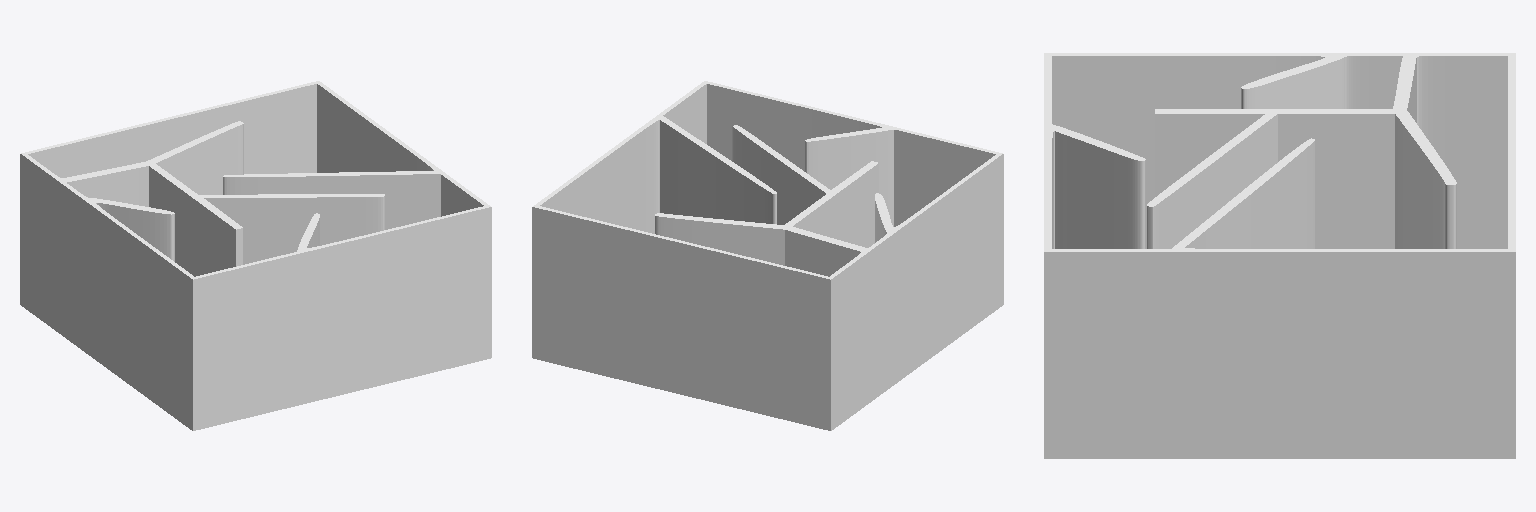
robot.urdf — urdf_robot:
<?xml version="1.0" ?>
<robot name="urdf_robot">
  <link name="baseLink">

    <inertial>
      <origin rpy="0 0 0" xyz="0 0 0"/>
       <mass value="10000.0"/>
       <inertia ixx="1" ixy="0" ixz="0" iyy="1" iyz="0" izz="1"/>
    </inertial>
    <visual>
      <origin rpy="0 0 0" xyz="0 0 0"/>
      <geometry>
				<mesh filename="maze_hard.obj" scale="100 100 100"/>      
      </geometry>
      <material name="white">
        <color rgba="1 1 1 1"/>
      </material>
    </visual>
    <collision>
      <origin rpy="0 0 0" xyz="0 0 0"/>
      <geometry>
	 <sphere radius="0."/>
      </geometry>
    </collision>
  </link>
</robot>

--- What the picture shows (computed from the rendered views, not written in the file) ---
The picture shows the robot from 3 angles, left to right: view 1: azimuth 30°, elevation 25°; view 2: azimuth 150°, elevation 25°; view 3: azimuth 270°, elevation 25°; orthographic projection.
Robot: urdf_robot — 1 links, 0 joints (none); root link baseLink; default pose: all joints at 0.
Links seen in each view (by area): view 1: baseLink; view 2: baseLink; view 3: baseLink.
Link boxes in pixels (x1,y1,x2,y2): baseLink: [20, 81, 491, 430]; baseLink: [532, 81, 1003, 430]; baseLink: [1044, 53, 1515, 458].
Bounding box of the posed robot: 2.49 × 2.49 × 1.21 m (x, y, z).
1 mesh visuals loaded from 1 distinct referenced files (1 OBJ).